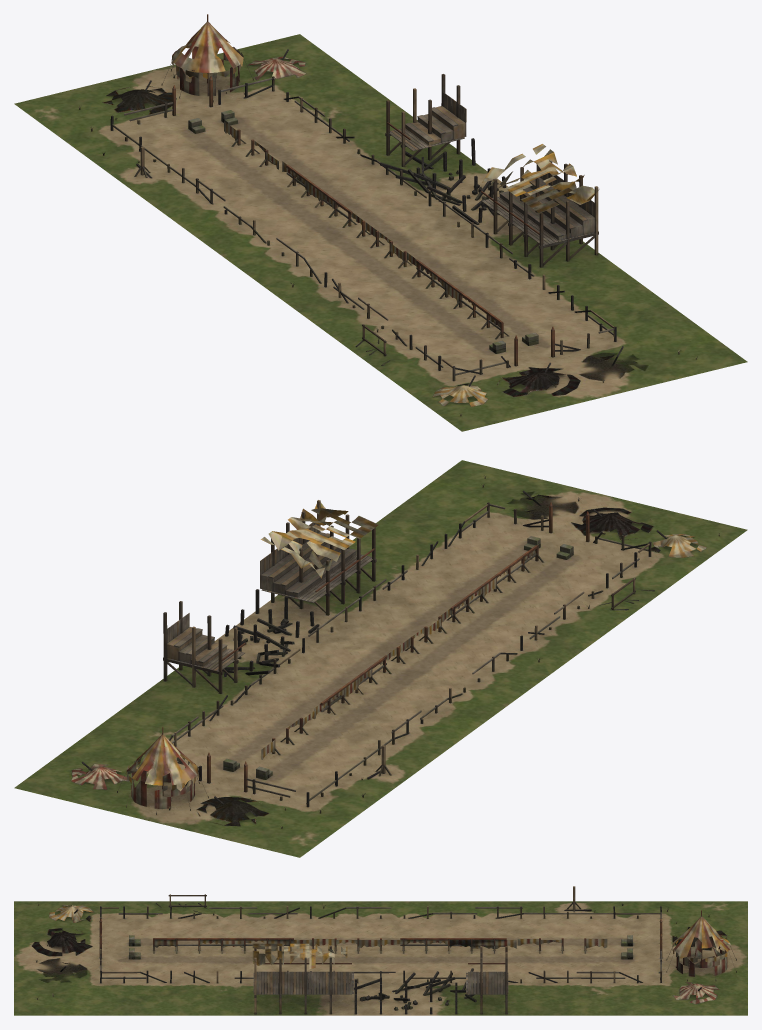
The model's file is lists_ruin.glb.
3 renders of one model, top to bottom at view 1: azimuth 30°, elevation 25°; view 2: azimuth 150°, elevation 25°; view 3: azimuth 270°, elevation 25°, orthographic. The views are drawn at different scales.
Visible parts, largest first — view 1: lists_ruin_LOD0; view 2: lists_ruin_LOD0; view 3: lists_ruin_LOD0.
Part boxes in pixels (x1,y1,x2,y2): lists_ruin_LOD0: [14, 14, 747, 431]; lists_ruin_LOD0: [14, 460, 747, 857]; lists_ruin_LOD0: [14, 886, 747, 1015].
Size of what is drawn, in the model's own units: 28 by 6.55 by 76.
Materials: 1 (1 with a texture image).
